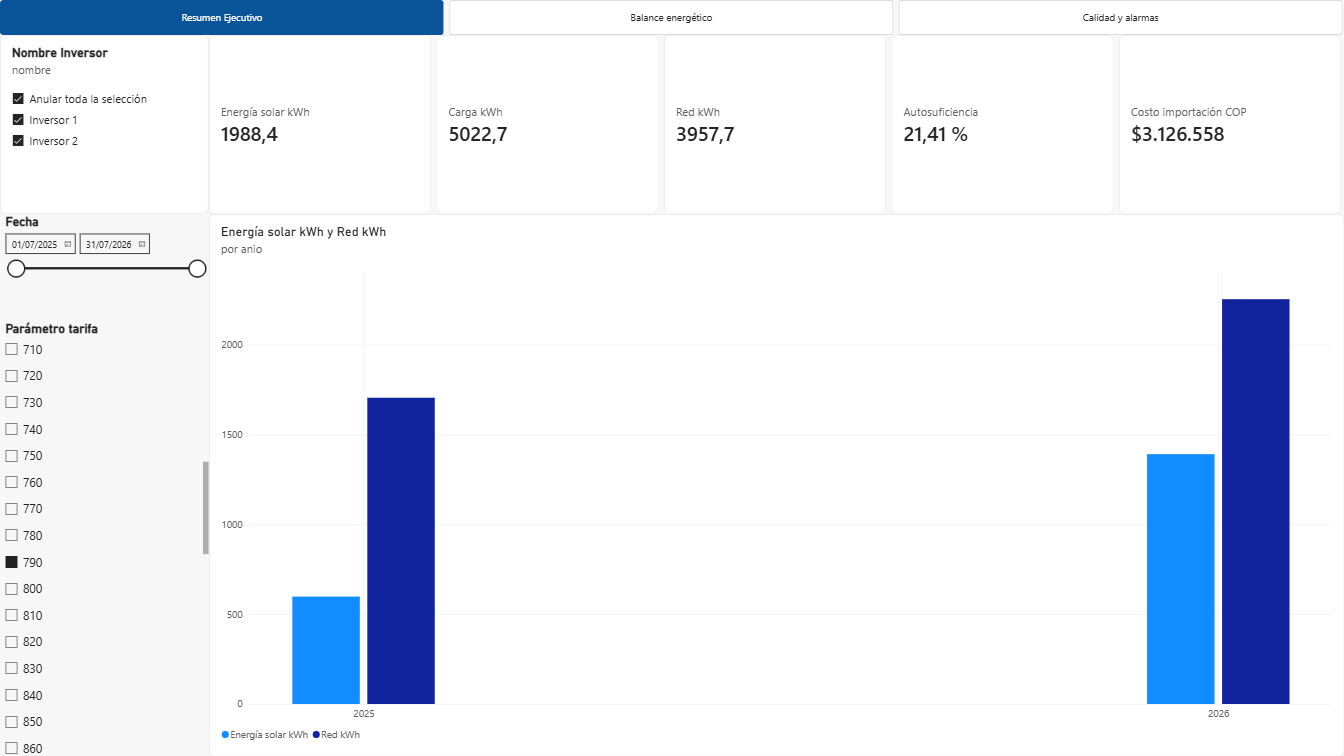

Layout of this report page (visuals, bound fields, positions):
{"tool":"powerbi","page":{"name":"Resumen Ejecutivo","canvas":[1920,1080],"ordinal":0},"visuals":[{"type":"cardVisual","fields":{"Data":["Medidas.Energía solar kWh","Medidas.Carga kWh","Medidas.Red kWh","Medidas.Autosuficiencia","Medidas.Costo importación COP"]},"box":[298.3,50,1621.7,255],"z":0},{"type":"clusteredColumnChart","fields":{"Category":["gold dim_fecha.Calendario.anio","gold dim_fecha.Calendario.trimestre","gold dim_fecha.Calendario.nombre_mes","gold dim_fecha.Calendario.fecha"],"Y":["Medidas.Energía solar kWh","Medidas.Red kWh"]},"box":[298.3,305,1621.7,775],"z":1000},{"type":"listSlicer","title":"Nombre Inversor","fields":{"Values":["gold dim_inversor.nombre"]},"box":[0,50,298.3,255],"z":2000},{"type":"slicer","title":"Fecha","fields":{"Values":["gold dim_fecha.fecha"]},"box":[0,305,298.3,153.3],"z":3000},{"type":"slicer","fields":{"Values":["Parámetro tarifa.Parámetro tarifa"]},"box":[0,458.3,298.3,621.7],"z":4000},{"type":"pageNavigator","box":[0,0,1920,50],"z":4001}]}

Visuals, with their boxes in screenshot pixels (x1, y1, x2, y2), scaled from the page's 1920x1080 canvas onto the 1344x756 screenshot:
cardVisual - Medidas.Energía solar kWh x Medidas.Carga kWh: locate(209, 35, 1343, 214)
clusteredColumnChart - gold dim_fecha.Calendario.anio x gold dim_fecha.Calendario.trimestre: locate(209, 214, 1343, 755)
"Nombre Inversor" listSlicer: locate(0, 35, 209, 214)
"Fecha" slicer: locate(0, 214, 209, 321)
slicer - Parámetro tarifa.Parámetro tarifa: locate(0, 321, 209, 755)
pageNavigator: locate(0, 0, 1343, 35)
